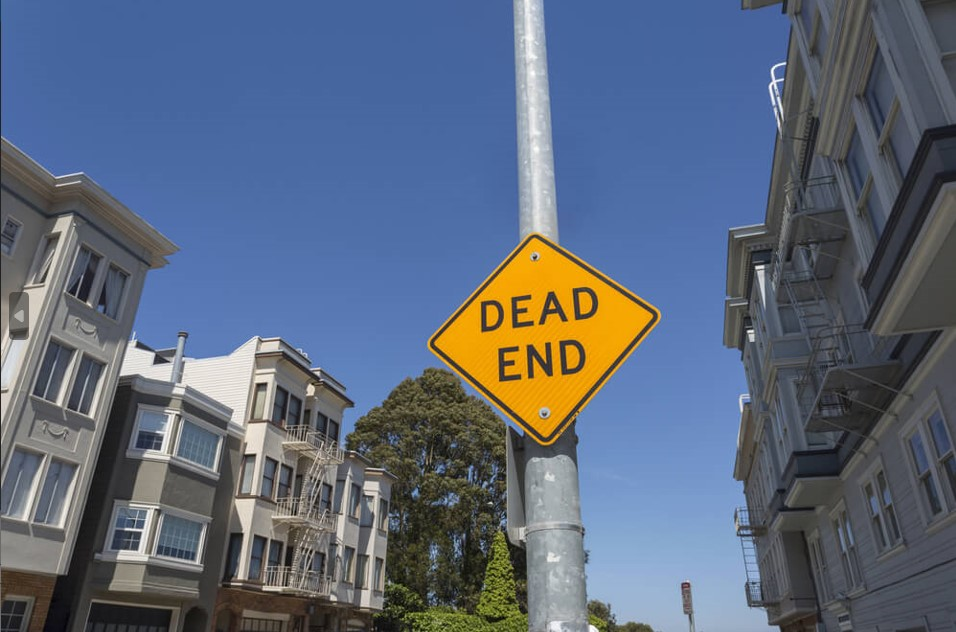Deadend: (425, 231, 661, 453)
